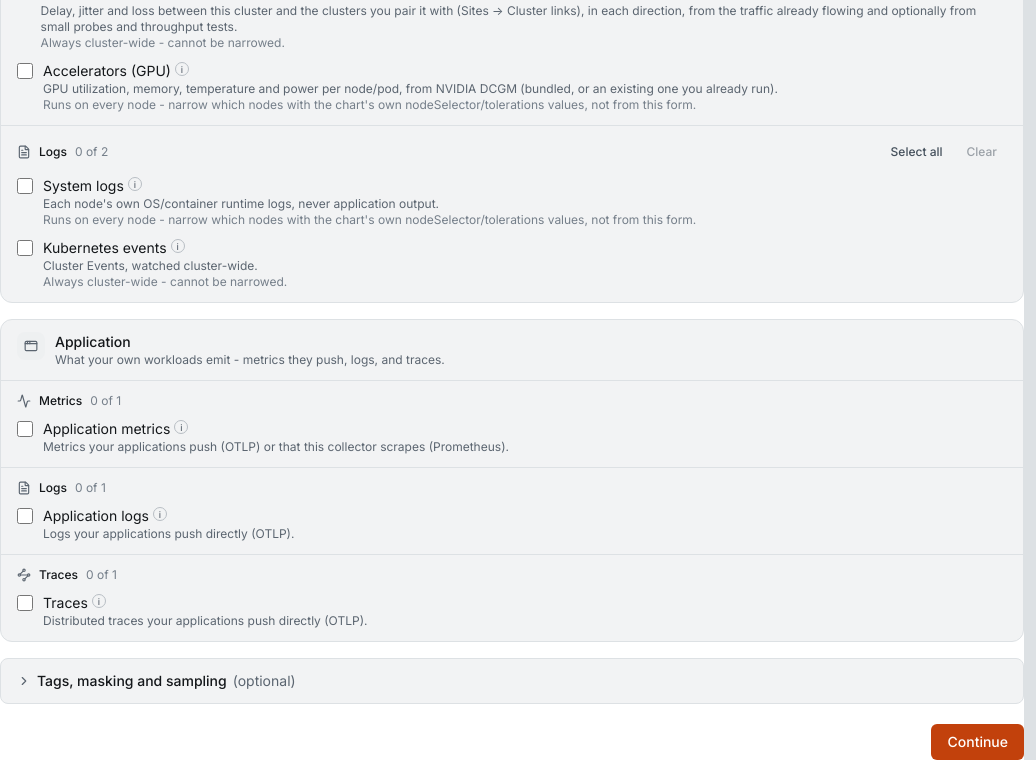
it: GuidedWizard destination step: the merged catalog › an install that already sends to an operator's advertised address opens with that operator picked, not "Another OTLP endpoint"
The width and height of the screenshot is (1036, 760).
(page scrolled)
Step 1. Click the button with test id "t-guided-continue" → (978, 742), box [932,724,1024,759]
(page scrolled)
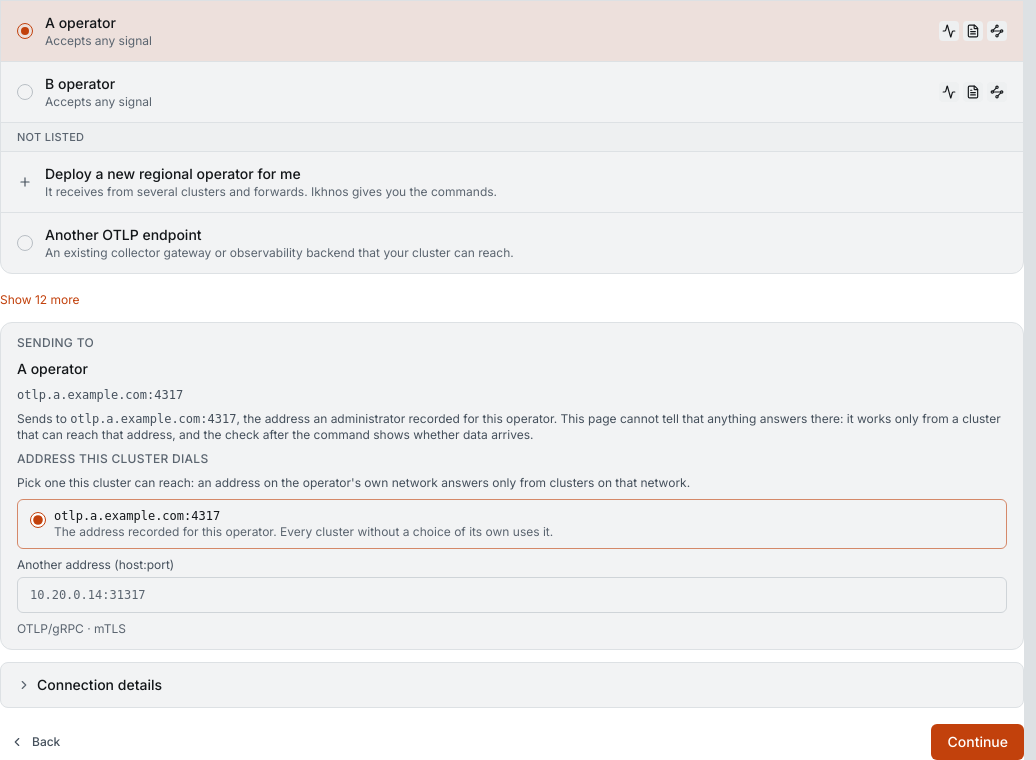
Expected: the text with test id "t-guided-destination-name" reads "A operator", [17,360,88,377]
